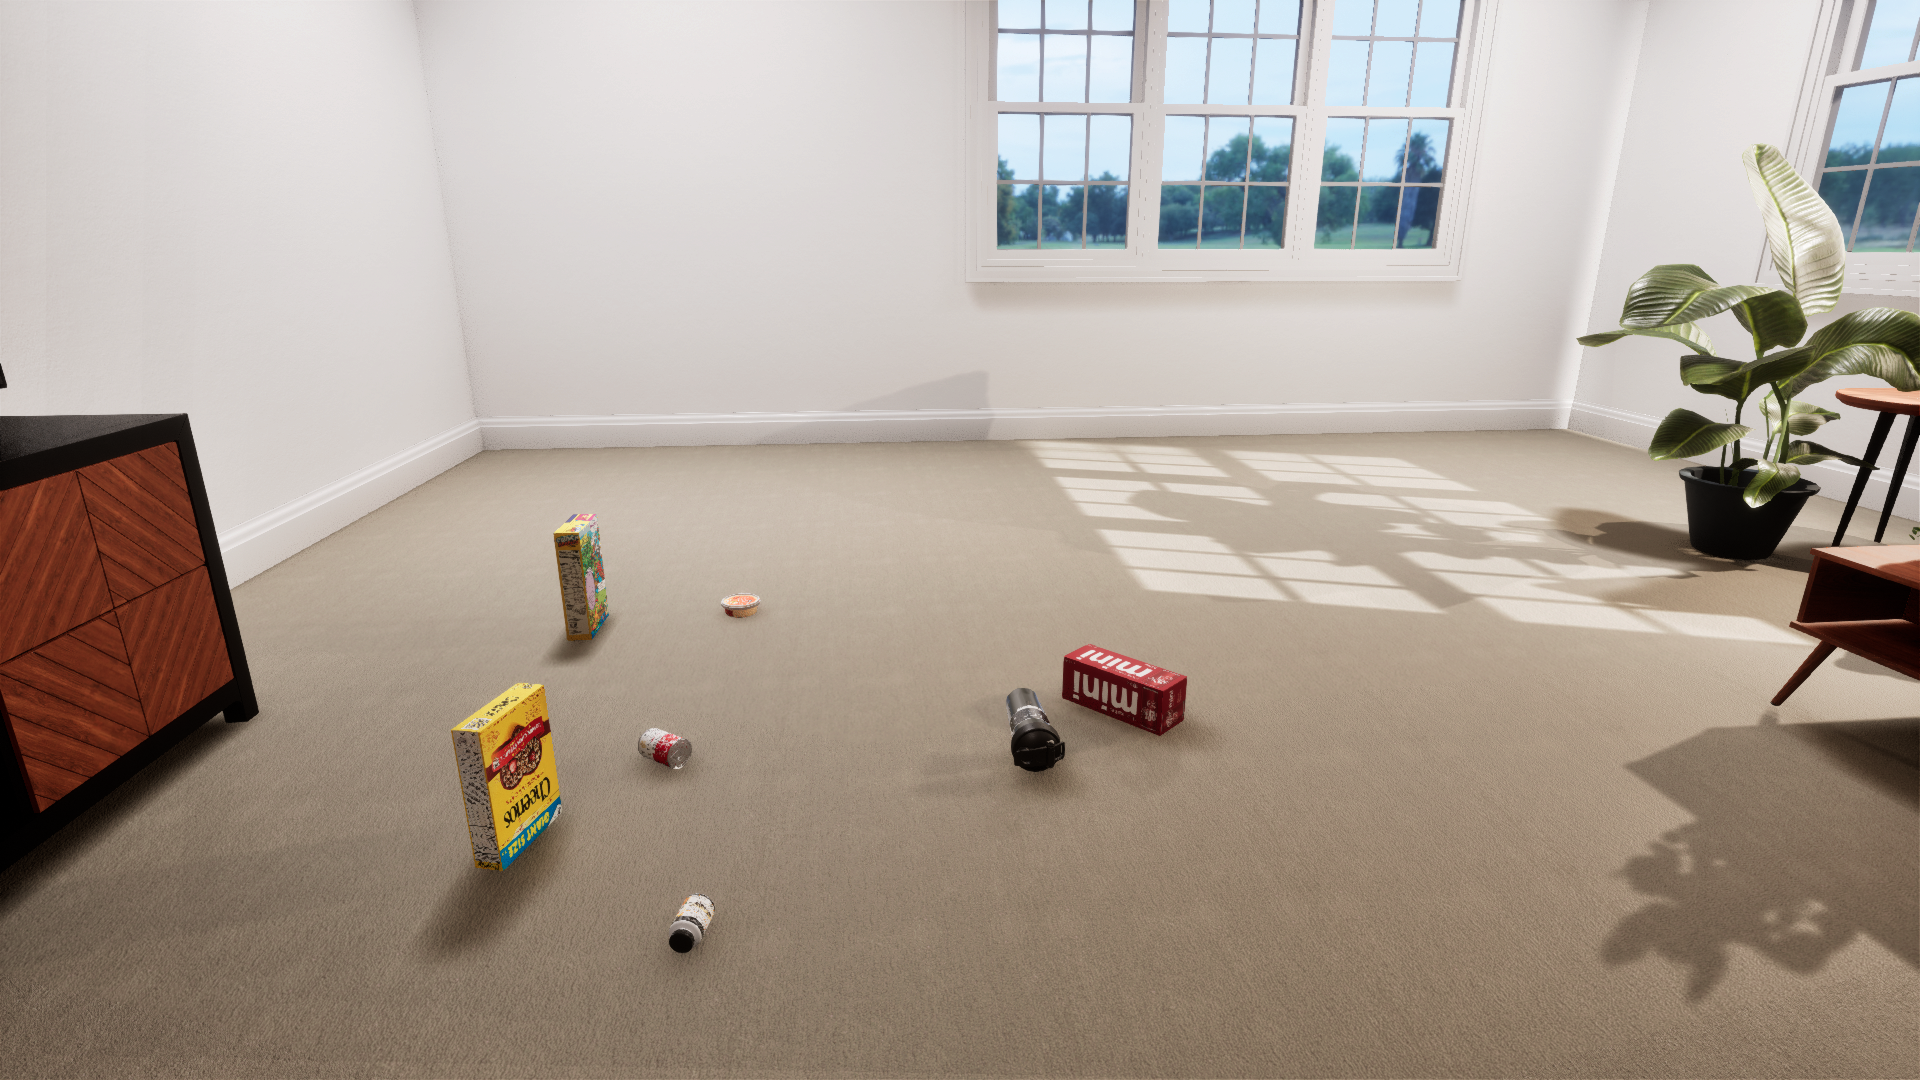cheerios: (1209, 513, 1295, 669)
soup: (1145, 599, 1193, 632)
